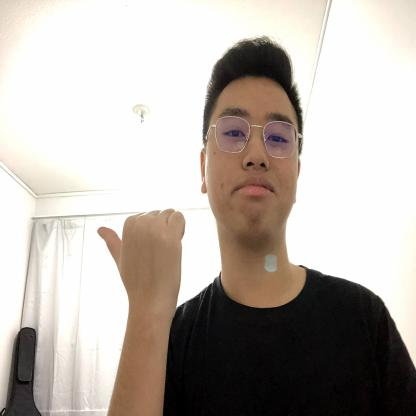right: (97, 208, 188, 297)
